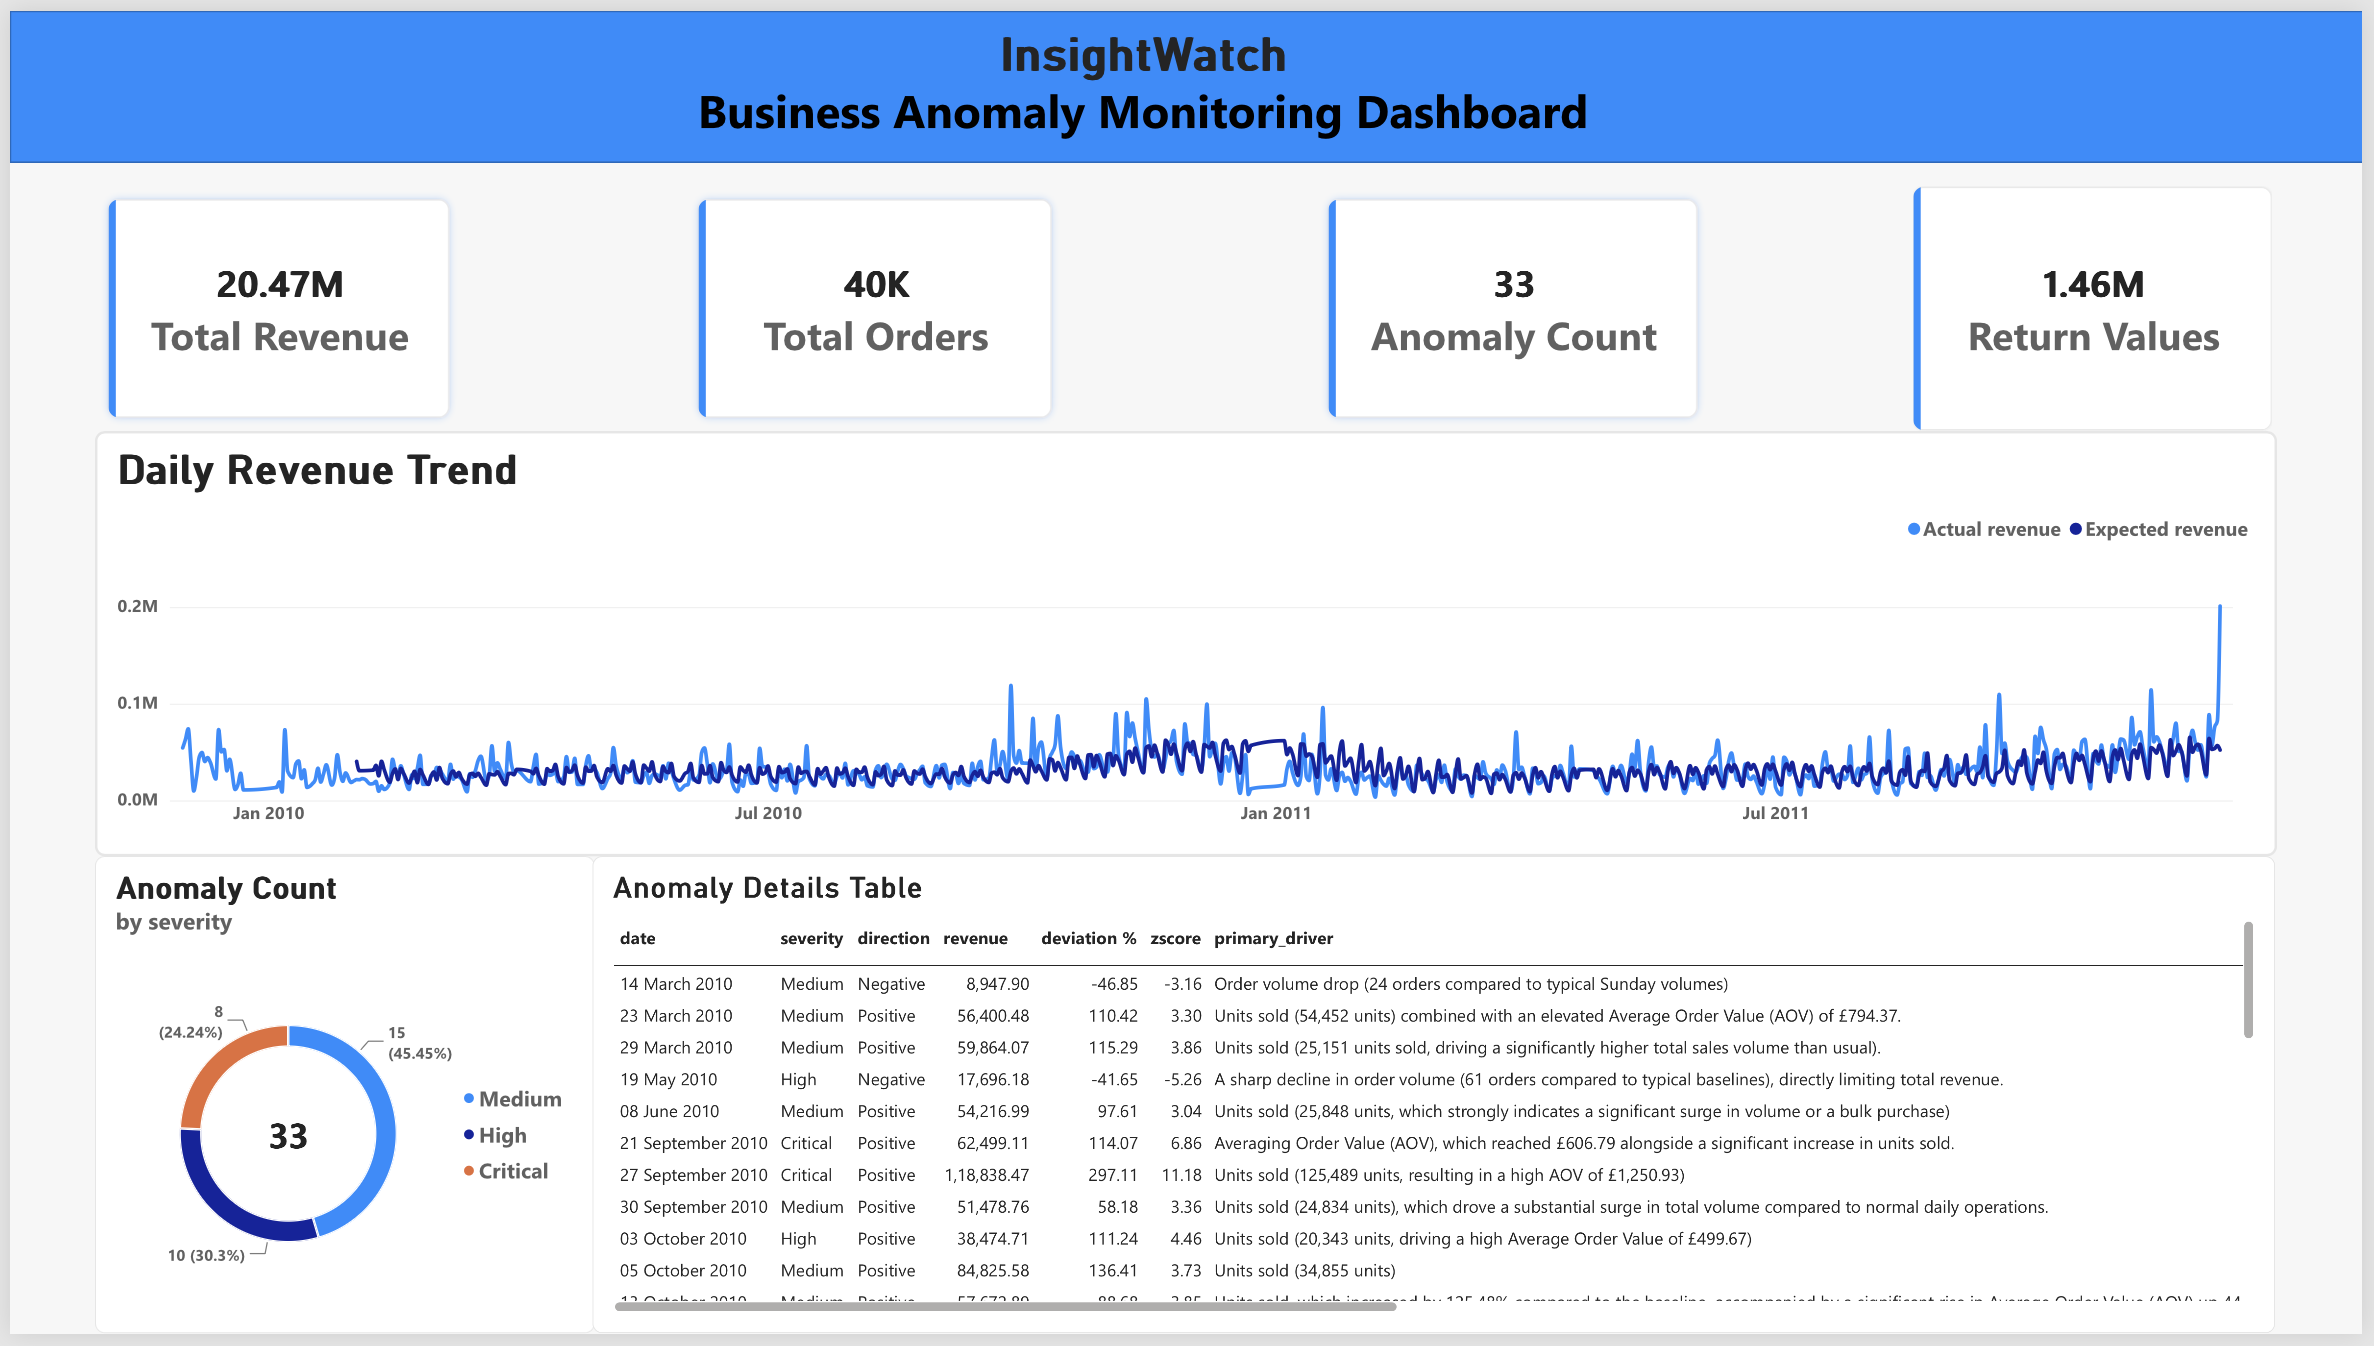

This screenshot's page, from the dashboard's own definition file:
{"tool":"powerbi","page":{"name":"Page 1","canvas":[1920,1080],"ordinal":0},"visuals":[{"type":"cardVisual","title":"Total Revenue","fields":{"Data":["Sum(public insightwatch_dashboard.revenue)"]},"box":[68.4,142.1,300,200],"z":0},{"type":"cardVisual","title":"Total Orders","fields":{"Data":["Sum(public insightwatch_dashboard.orders)"]},"box":[550,142.1,310.5,200],"z":1000},{"type":"cardVisual","title":"Anomalies","fields":{"Data":["public insightwatch_dashboard.Anomaly Count"]},"box":[1065.8,142.1,323.7,200],"z":2000},{"type":"cardVisual","title":"Return Values","fields":{"Data":["Sum(public insightwatch_dashboard.return_value)"]},"box":[1552.6,142.1,294.7,200],"z":3000},{"type":"lineChart","title":"Daily Revenue Trend","fields":{"Category":["public insightwatch_dashboard.metric_date"],"Y":["Sum(public insightwatch_dashboard.revenue)","Sum(public insightwatch_dashboard.baseline_revenue)"]},"box":[68.4,342.1,1781.2,347.1],"z":4000},{"type":"shape","box":[0,0,1921.1,123.8],"z":5000},{"type":"textbox","box":[0,0,1921.1,123.8],"z":6000},{"type":"textbox","title":"InsightWatch","box":[0,18.4,1850,123.7],"z":7000},{"type":"donutChart","fields":{"Category":["public insightwatch_dashboard.severity"],"Y":["public insightwatch_dashboard.Anomaly Count"]},"box":[68.4,689.5,407.9,389.5],"z":8000},{"type":"tableEx","title":"Anomaly Details Table","fields":{"Values":["public insightwatch_dashboard.metric_date","public insightwatch_dashboard.severity","public insightwatch_dashboard.anomaly_direction","public insightwatch_dashboard.revenue","public insightwatch_dashboard.revenue_deviation_pct","public insightwatch_dashboard.revenue_zscore","public insightwatch_dashboard.primary_driver","public insightwatch_dashboard.summary"]},"box":[476.3,689.5,1373.7,389.5],"z":9000}]}

Visuals, with their boxes in screenshot pixels (x1, y1, x2, y2), scaled from the page's 1920x1080 canvas onto the 2374x1346 screenshot:
"Total Revenue" cardVisual: {"x1": 85, "y1": 177, "x2": 456, "y2": 426}
"Total Orders" cardVisual: {"x1": 680, "y1": 177, "x2": 1064, "y2": 426}
"Anomalies" cardVisual: {"x1": 1318, "y1": 177, "x2": 1718, "y2": 426}
"Return Values" cardVisual: {"x1": 1920, "y1": 177, "x2": 2284, "y2": 426}
"Daily Revenue Trend" lineChart: {"x1": 85, "y1": 426, "x2": 2287, "y2": 859}
shape: {"x1": 0, "y1": 0, "x2": 2373, "y2": 154}
textbox: {"x1": 0, "y1": 0, "x2": 2373, "y2": 154}
"InsightWatch" textbox: {"x1": 0, "y1": 23, "x2": 2287, "y2": 177}
donutChart - public insightwatch_dashboard.severity x public insightwatch_dashboard.Anomaly Count: {"x1": 85, "y1": 859, "x2": 589, "y2": 1345}
"Anomaly Details Table" tableEx: {"x1": 589, "y1": 859, "x2": 2287, "y2": 1345}
